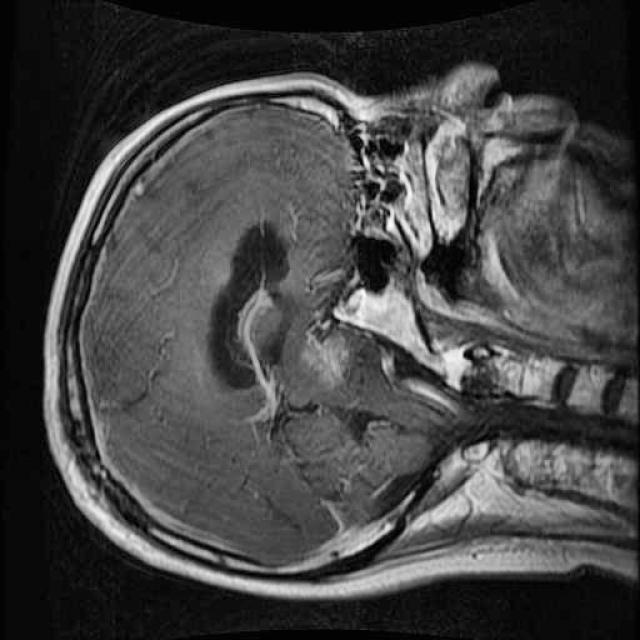Non-Tumor: (286, 294, 364, 402)
